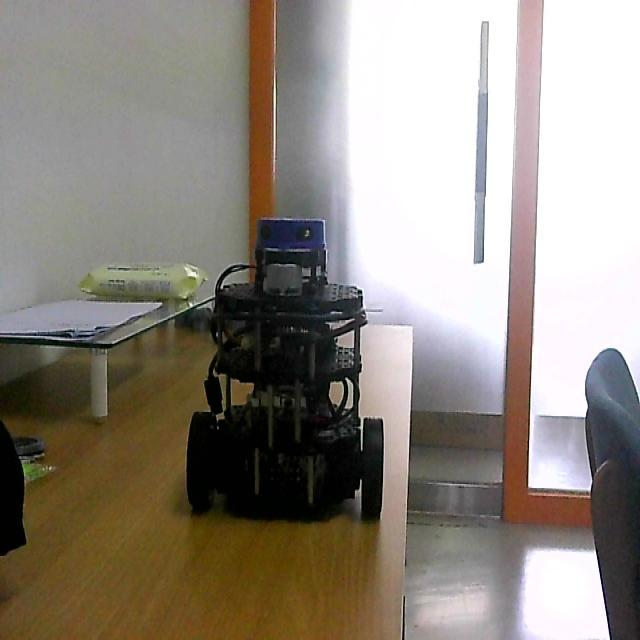turtle: (185, 218, 385, 524)
